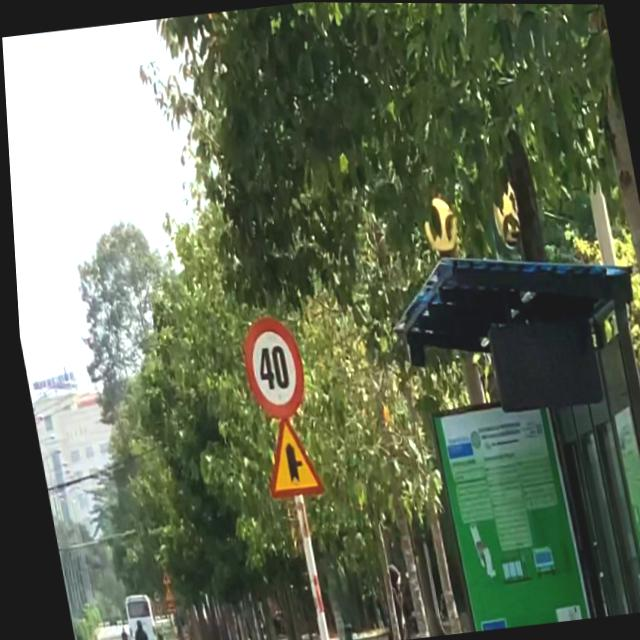Giao nhau voi duong khong uu tien ben phai: (251, 411, 321, 502)
Toc do toi da cho phep: (231, 312, 308, 419)
